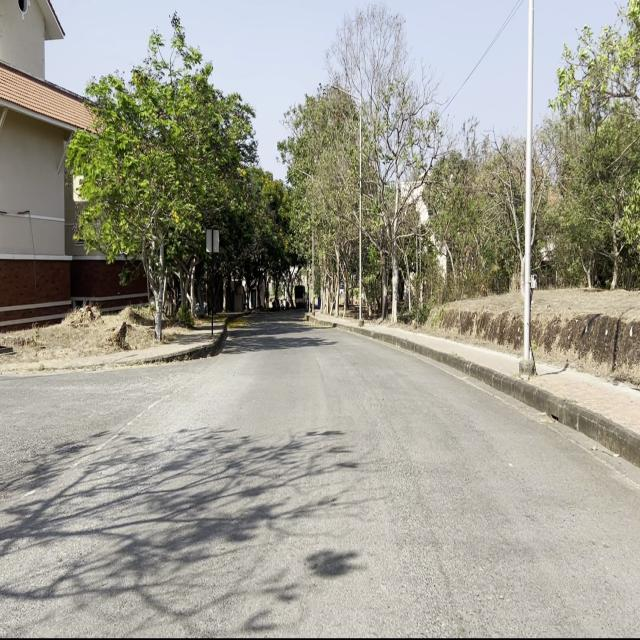Road: (3, 313, 637, 632)
